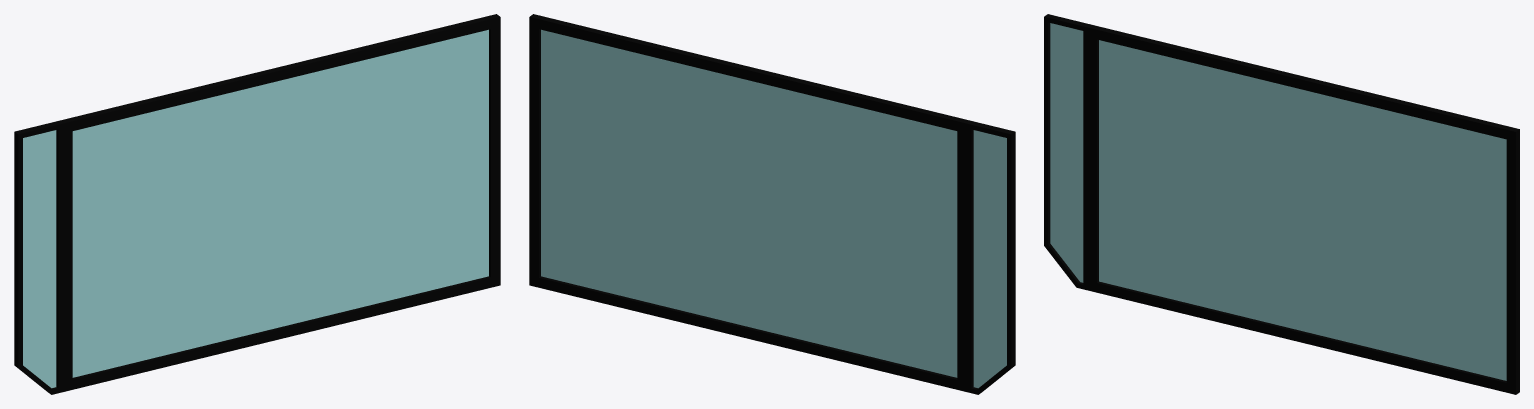
The model's file is bolt-tablet.glb.
3 renders of one model, left to right at view 1: azimuth 30°, elevation 25°; view 2: azimuth 150°, elevation 25°; view 3: azimuth 330°, elevation 25°, orthographic. The views are drawn at different scales.
Parts seen in each view (by area): view 1: TabletMeshLOD0; view 2: TabletMeshLOD0; view 3: TabletMeshLOD0.
Boxes of the visible parts, bbox=[...] form: TabletMeshLOD0: bbox=[14, 14, 500, 394]; TabletMeshLOD0: bbox=[529, 14, 1015, 394]; TabletMeshLOD0: bbox=[1044, 14, 1519, 394].
Size of what is drawn, in the model's own units: 0.5782 by 0.3078 by 0.00812.
